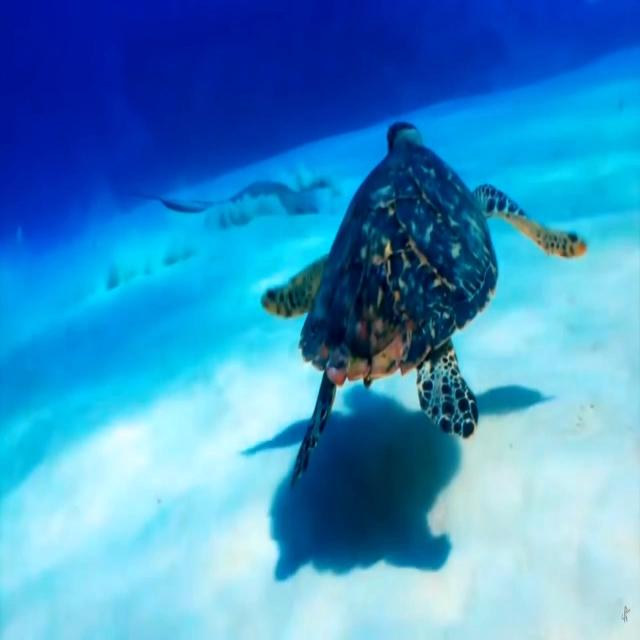Sea turtle: (260, 122, 588, 500)
